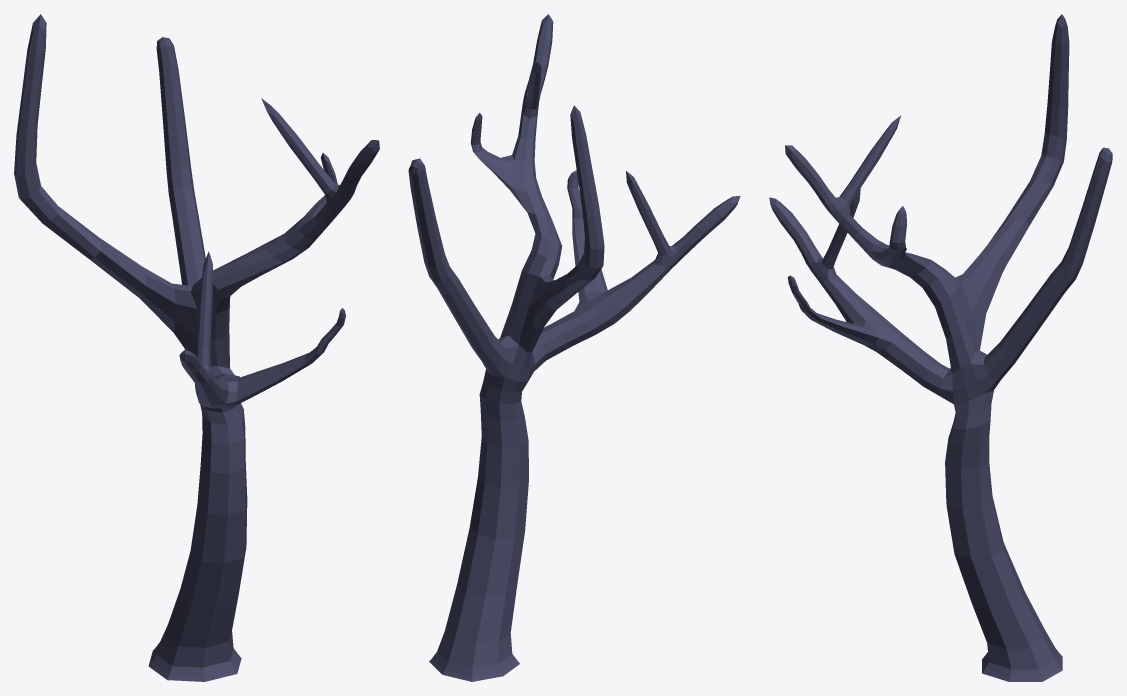
File: Dead_tree_1.fbx
3 renders of one model, left to right at view 1: azimuth 30°, elevation 25°; view 2: azimuth 150°, elevation 25°; view 3: azimuth 270°, elevation 25°, orthographic. The views are drawn at different scales.
Parts seen in each view (by area): view 1: Dead_tree_1; view 2: Dead_tree_1; view 3: Dead_tree_1.
Boxes of the visible parts, box(x1,y1,x2,y2) form: Dead_tree_1: box(14, 14, 379, 681); Dead_tree_1: box(408, 14, 740, 681); Dead_tree_1: box(769, 14, 1112, 681).
Bounding box in the file's own units: 5.58 × 15.17 × 7.93.
